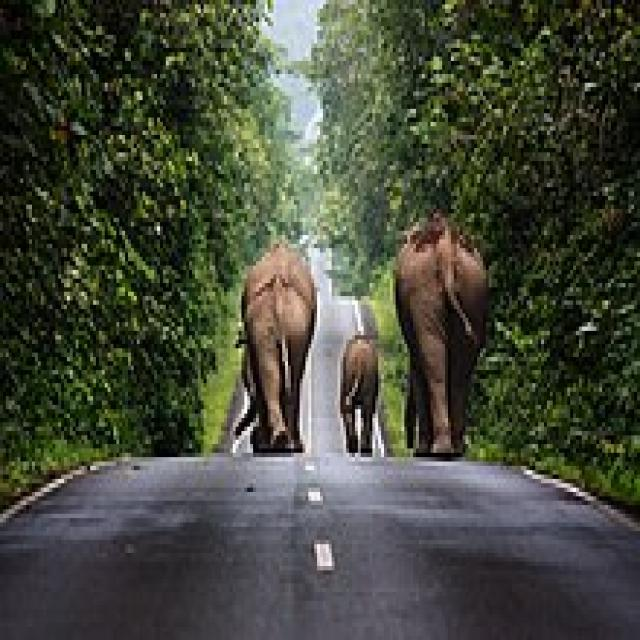Elephant: (393, 213, 490, 468), (239, 225, 315, 466), (341, 322, 385, 458)
